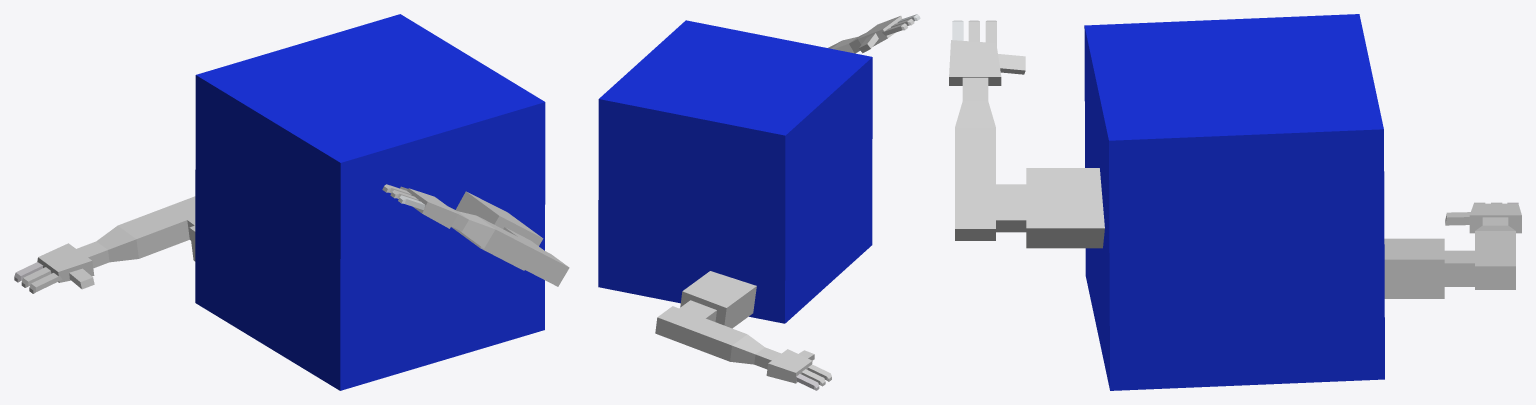
Rendered from Blockenemy.fbx.
The picture shows the model from 3 angles, left to right: view 1: azimuth 30°, elevation 25°; view 2: azimuth 150°, elevation 25°; view 3: azimuth 270°, elevation 25°; orthographic projection. The views are drawn at different scales.
Parts seen in each view (by area): view 1: Cube, Cube.001, Cube.008; view 2: Cube, Cube.001, Cube.008; view 3: Cube, Cube.008, Cube.001.
Part boxes in pixels (box(x1,y1,x2,y2)): Cube: box(195, 14, 545, 390); Cube.001: box(14, 196, 195, 293); Cube.008: box(382, 184, 569, 286); Cube: box(598, 20, 872, 323); Cube.001: box(655, 271, 831, 390); Cube.008: box(828, 14, 920, 53); Cube: box(1084, 14, 1384, 390); Cube.008: box(949, 20, 1104, 248); Cube.001: box(1384, 202, 1521, 298).
Size of the model in its own units: 456 by 299 by 598.
